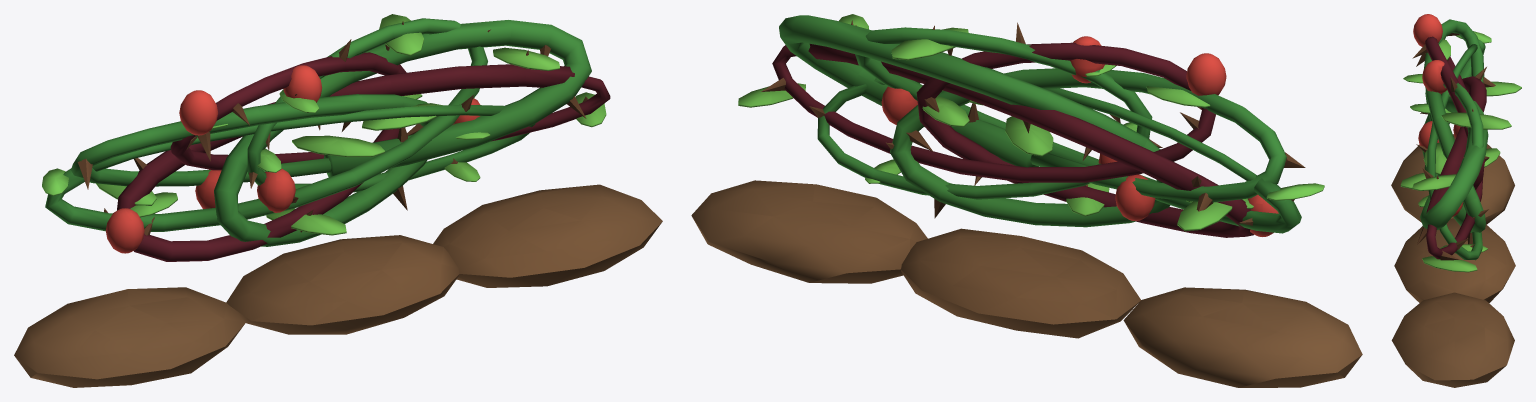
The model's file is glade_bramble_knot.glb.
3 views of the same model, side by side, from view 1: azimuth 30°, elevation 25°; view 2: azimuth 150°, elevation 25°; view 3: azimuth 270°, elevation 25° (orthographic). The views are drawn at different scales.
Visible parts, largest first — view 1: glade_bramble_knot; view 2: glade_bramble_knot; view 3: glade_bramble_knot.
Boxes of the visible parts, left/top/right/bottom form: glade_bramble_knot: left=14, top=14, right=662, bottom=387; glade_bramble_knot: left=691, top=14, right=1362, bottom=387; glade_bramble_knot: left=1391, top=14, right=1521, bottom=387.
Bounding box in the file's own units: 9.22 × 4 × 2.18.
